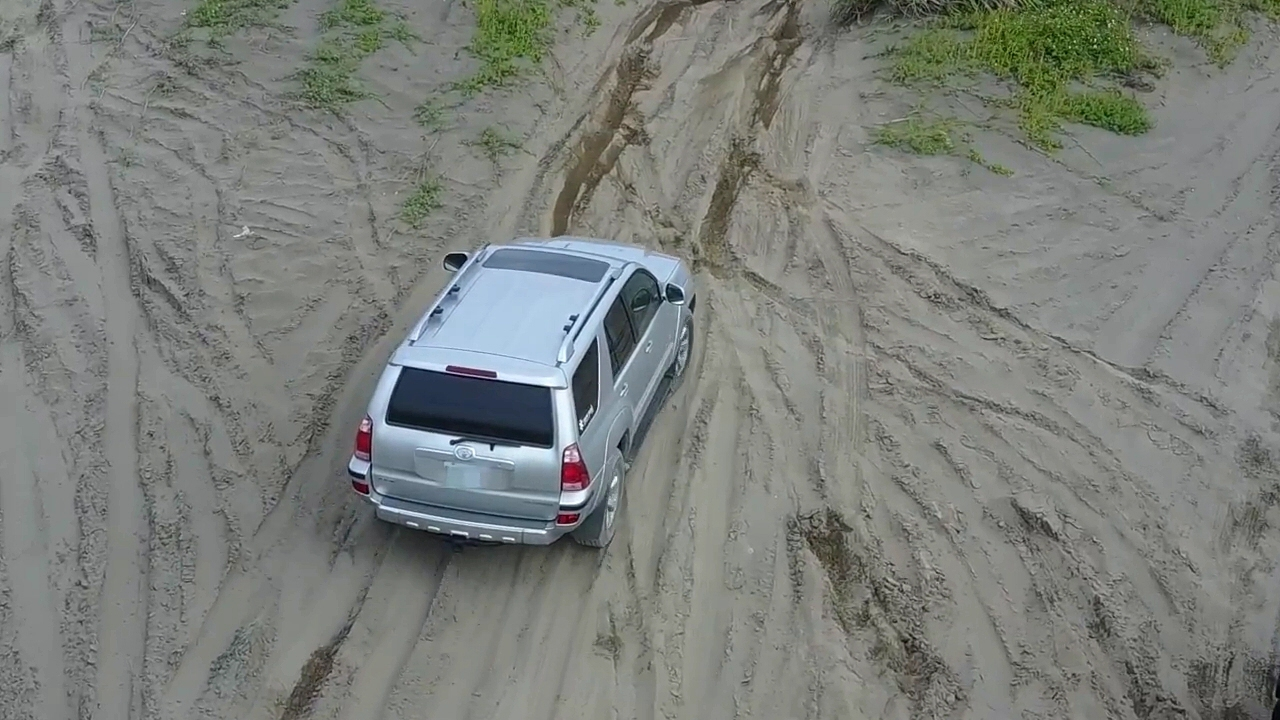araba: (349, 240, 703, 548)
